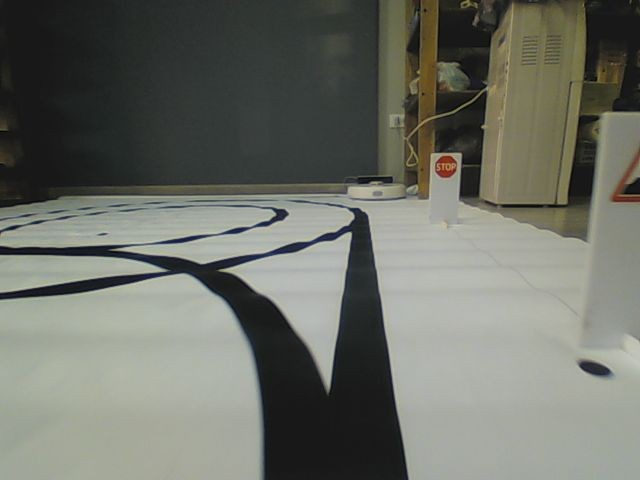Stop: (433, 156, 457, 178)
